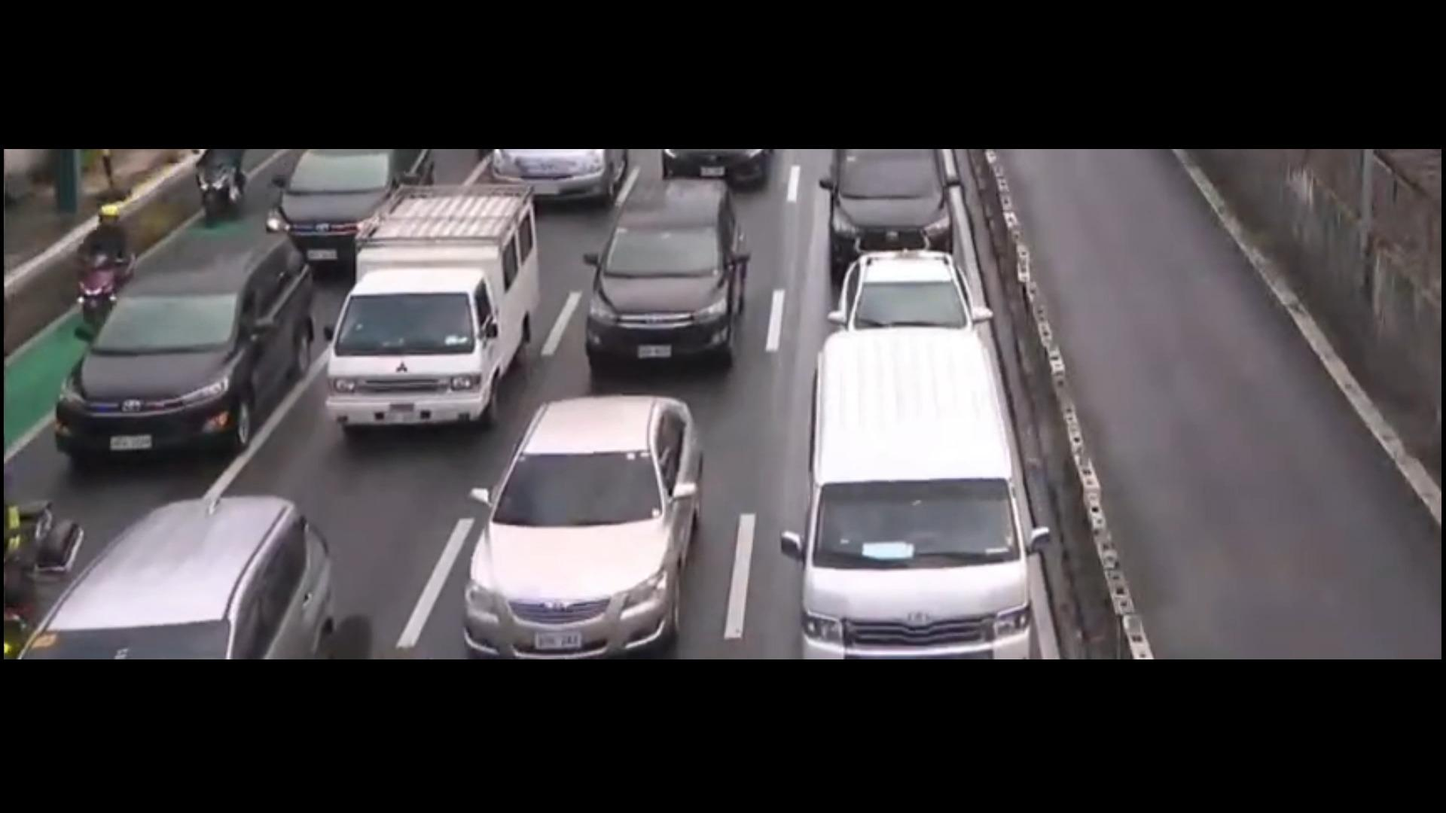Motorcycle: (74, 199, 142, 336), (189, 148, 253, 226)
Multicab: (329, 188, 545, 439)
SUV: (51, 229, 306, 471), (17, 490, 340, 661), (587, 178, 746, 368), (272, 153, 431, 270), (825, 148, 954, 273)
Van: (797, 329, 1033, 657), (461, 390, 701, 657), (833, 245, 987, 333)
